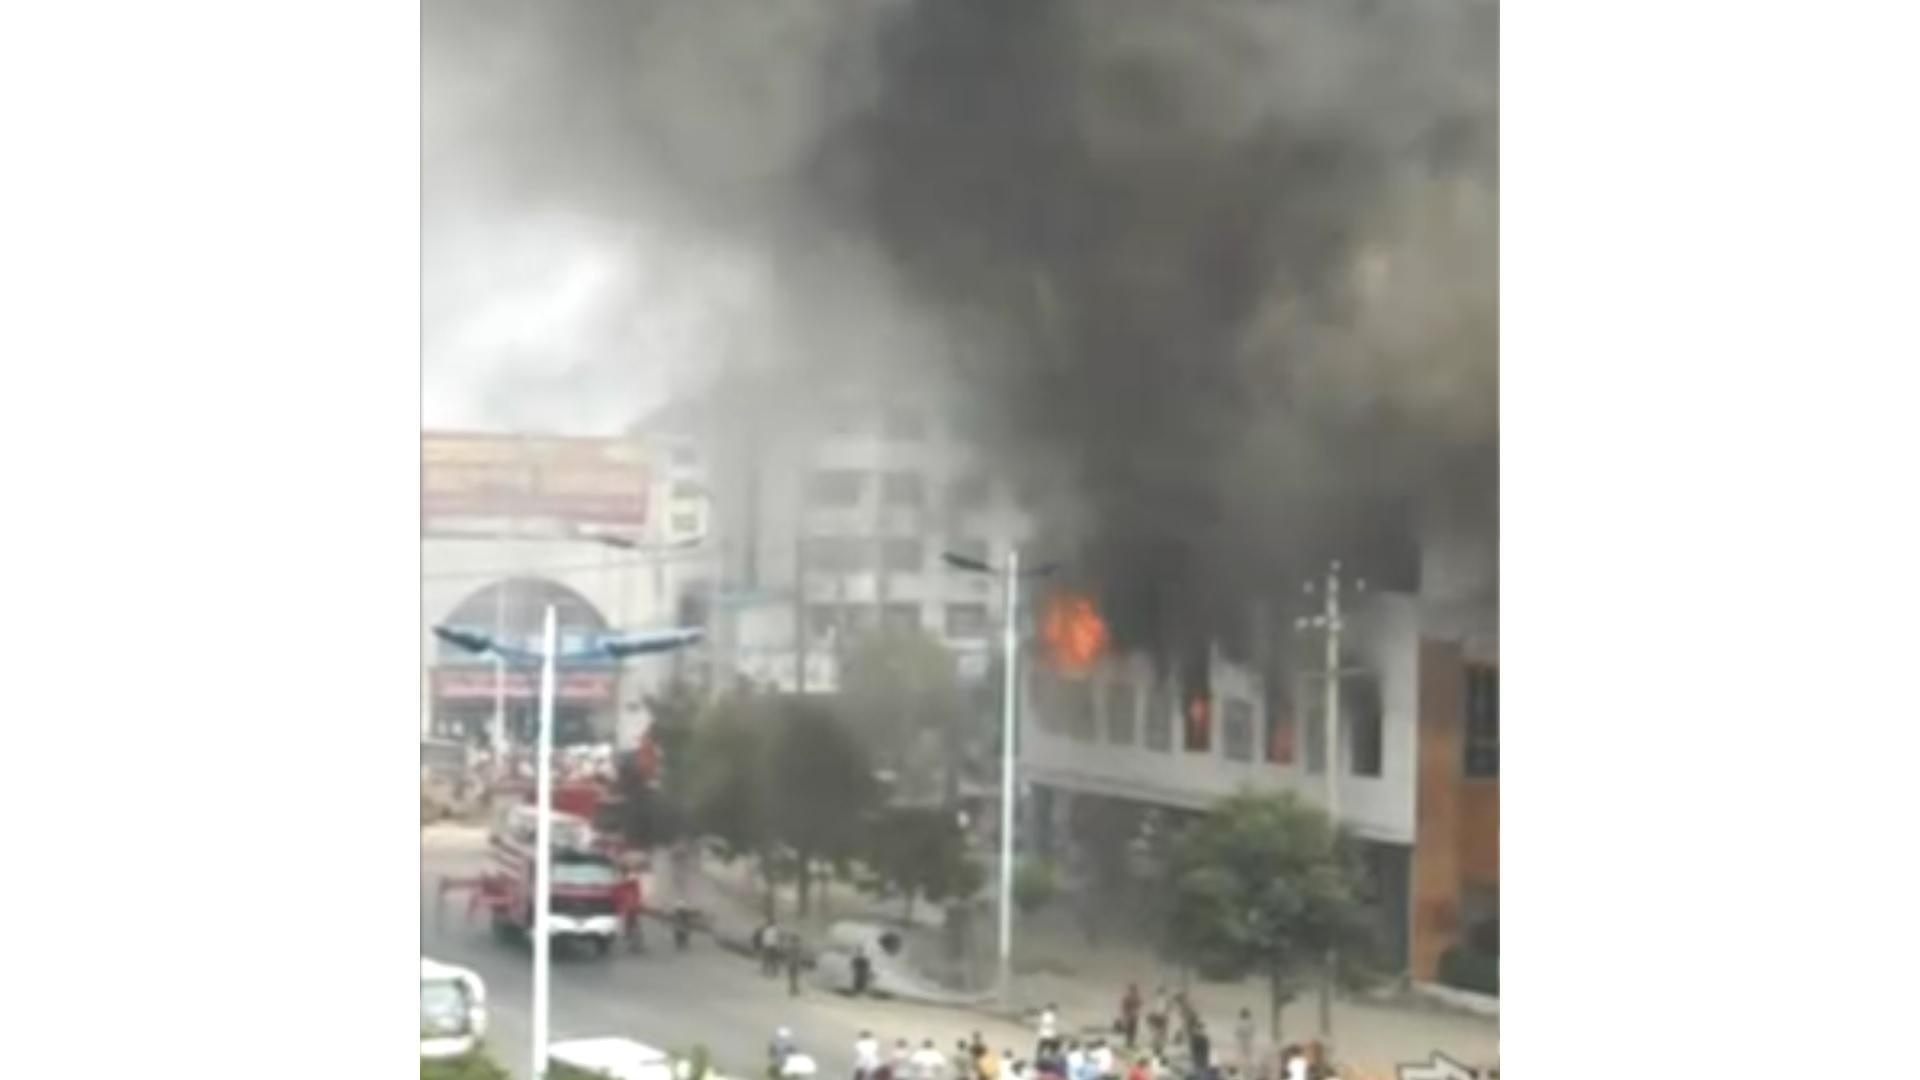fire: (1033, 587, 1114, 671)
